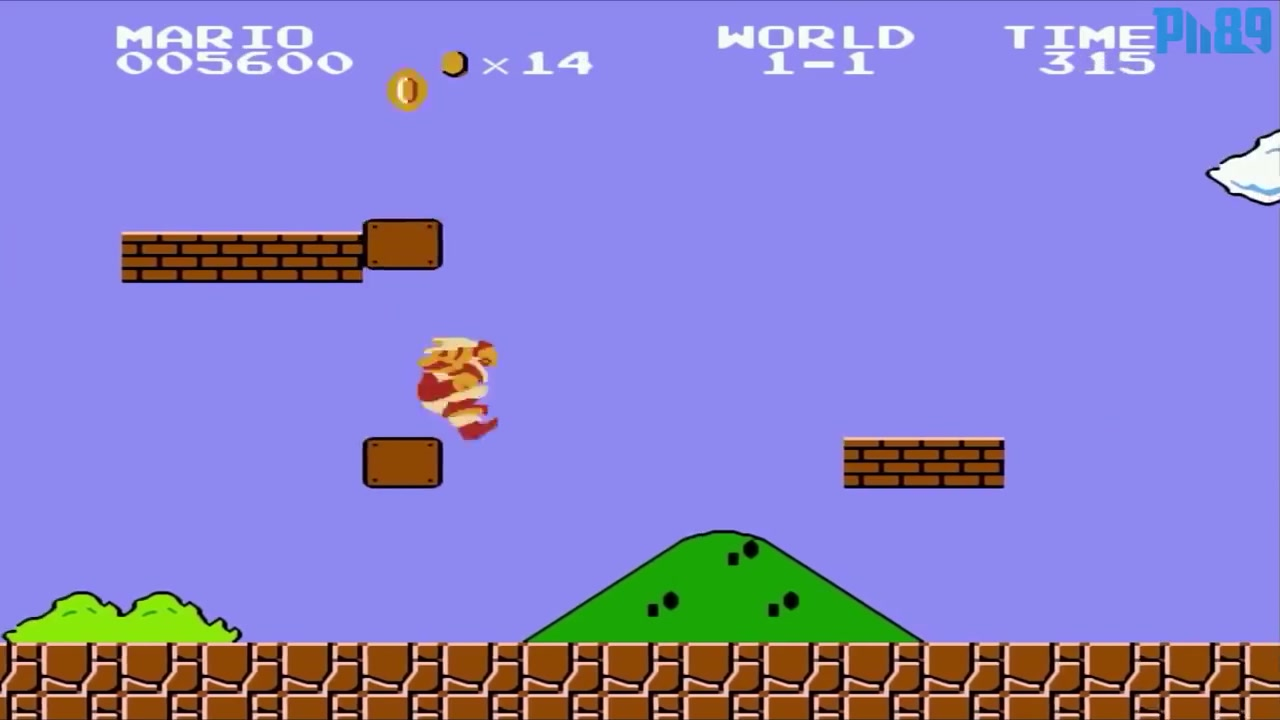mario: (407, 331, 504, 442)
